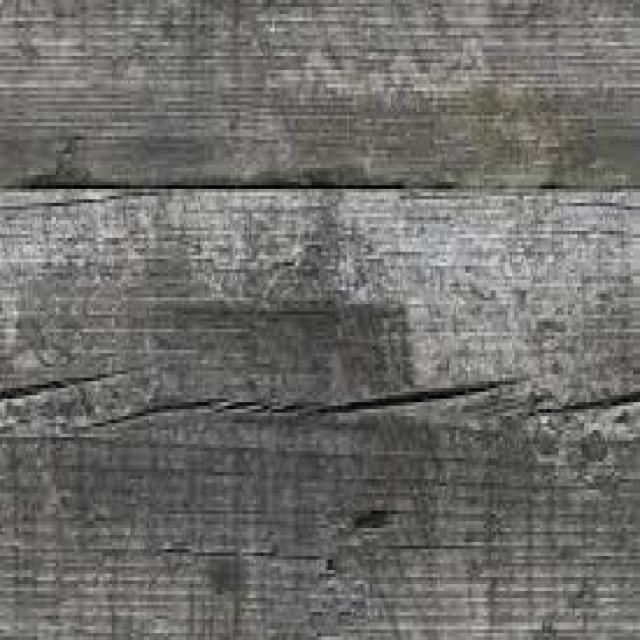perfect-wooden-plate: (0, 389, 640, 638), (0, 192, 629, 420)
